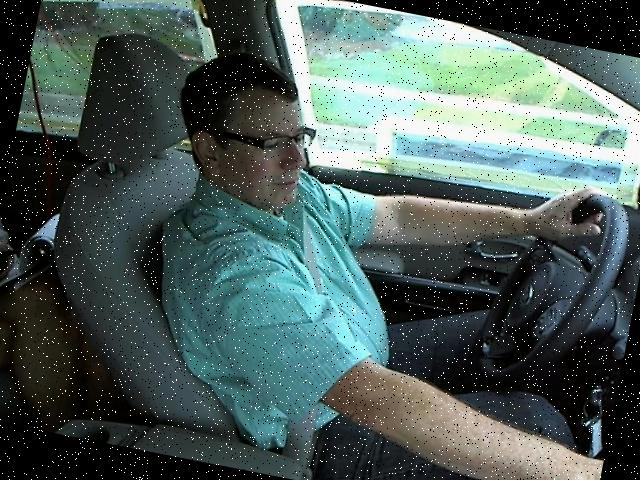c3 - Operating the Radio: (114, 38, 639, 479)
